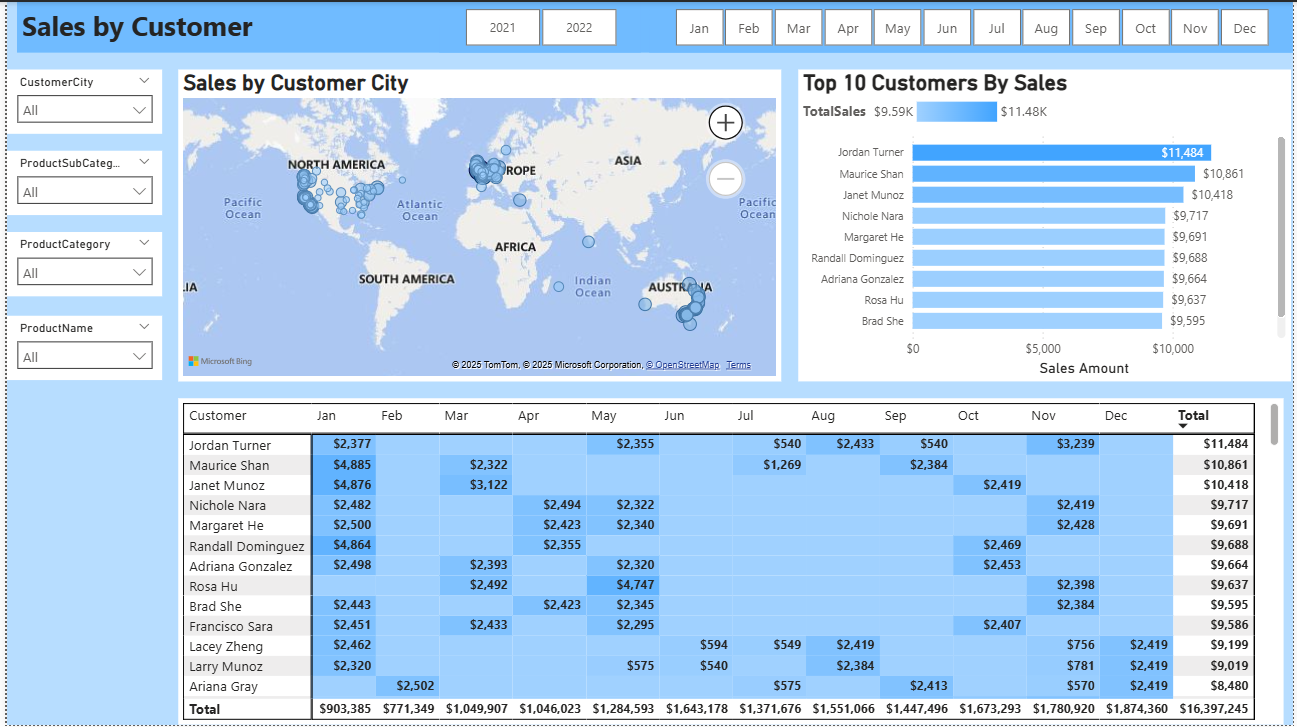

This screenshot's page, from the dashboard's own definition file:
{"tool":"powerbi","page":{"name":"Sales by Customer","canvas":[1280,720],"ordinal":1},"visuals":[{"type":"textbox","box":[10.1,0,1269.9,50.4],"z":0},{"type":"slicer","fields":{"Values":["DimCustomer.CustomerCity"]},"box":[0,67.2,154.5,63.8],"z":1000},{"type":"slicer","fields":{"Values":["DimProduct.ProductSubCategory"]},"box":[0,147.8,154.5,63.8],"z":2000},{"type":"slicer","fields":{"Values":["DimProduct.ProductCategory"]},"box":[0,228.5,154.5,63.8],"z":3000},{"type":"slicer","fields":{"Values":["DimProduct.ProductName"]},"box":[0,312.4,154.5,63.8],"z":4000},{"type":"slicer","fields":{"Values":["DimDate.Year"]},"box":[431,0,200,50],"z":5000},{"type":"slicer","fields":{"Values":["DimDate.MonthShort"]},"box":[640,0,640,50],"z":6000},{"type":"barChart","title":"Top 10 Customers By Sales","fields":{"Y":["Key Measures.TotalSales"],"Category":["DimCustomer.Full Name"]},"box":[787.5,67.5,490,310],"z":7000},{"type":"map","title":"Sales by Customer City","fields":{"Category":["DimCustomer.CustomerCity"],"Size":["Key Measures.TotalSales"]},"box":[171,67.5,600,310],"z":8000},{"type":"pivotTable","fields":{"Rows":["DimCustomer.Full Name"],"Columns":["DimDate.MonthShort"],"Values":["Key Measures.TotalSales"]},"box":[171,393.7,1100,325],"z":9000}]}

Visuals, with their boxes in screenshot pixels (x1, y1, x2, y2), scaled from the page's 1280x720 canvas onto the 1297x727 screenshot:
textbox: box(10, 0, 1296, 51)
slicer - DimCustomer.CustomerCity: box(0, 68, 157, 132)
slicer - DimProduct.ProductSubCategory: box(0, 149, 157, 214)
slicer - DimProduct.ProductCategory: box(0, 231, 157, 295)
slicer - DimProduct.ProductName: box(0, 315, 157, 380)
slicer - DimDate.Year: box(437, 0, 639, 50)
slicer - DimDate.MonthShort: box(648, 0, 1296, 50)
"Top 10 Customers By Sales" barChart: box(798, 68, 1294, 381)
"Sales by Customer City" map: box(173, 68, 781, 381)
pivotTable - DimCustomer.Full Name x DimDate.MonthShort: box(173, 398, 1288, 726)
